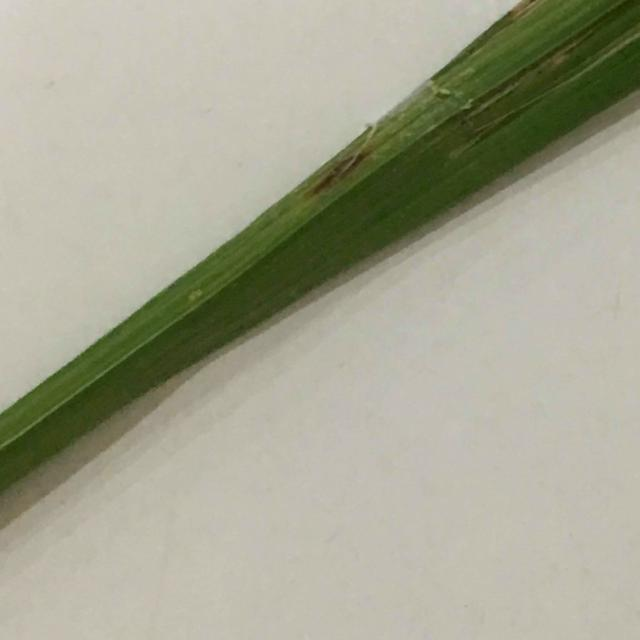brownspots: (297, 135, 370, 209)
